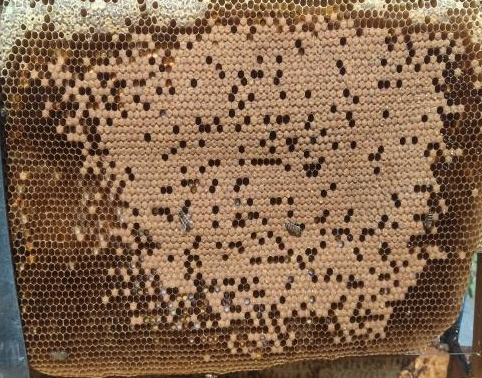cria: (14, 12, 482, 361)
